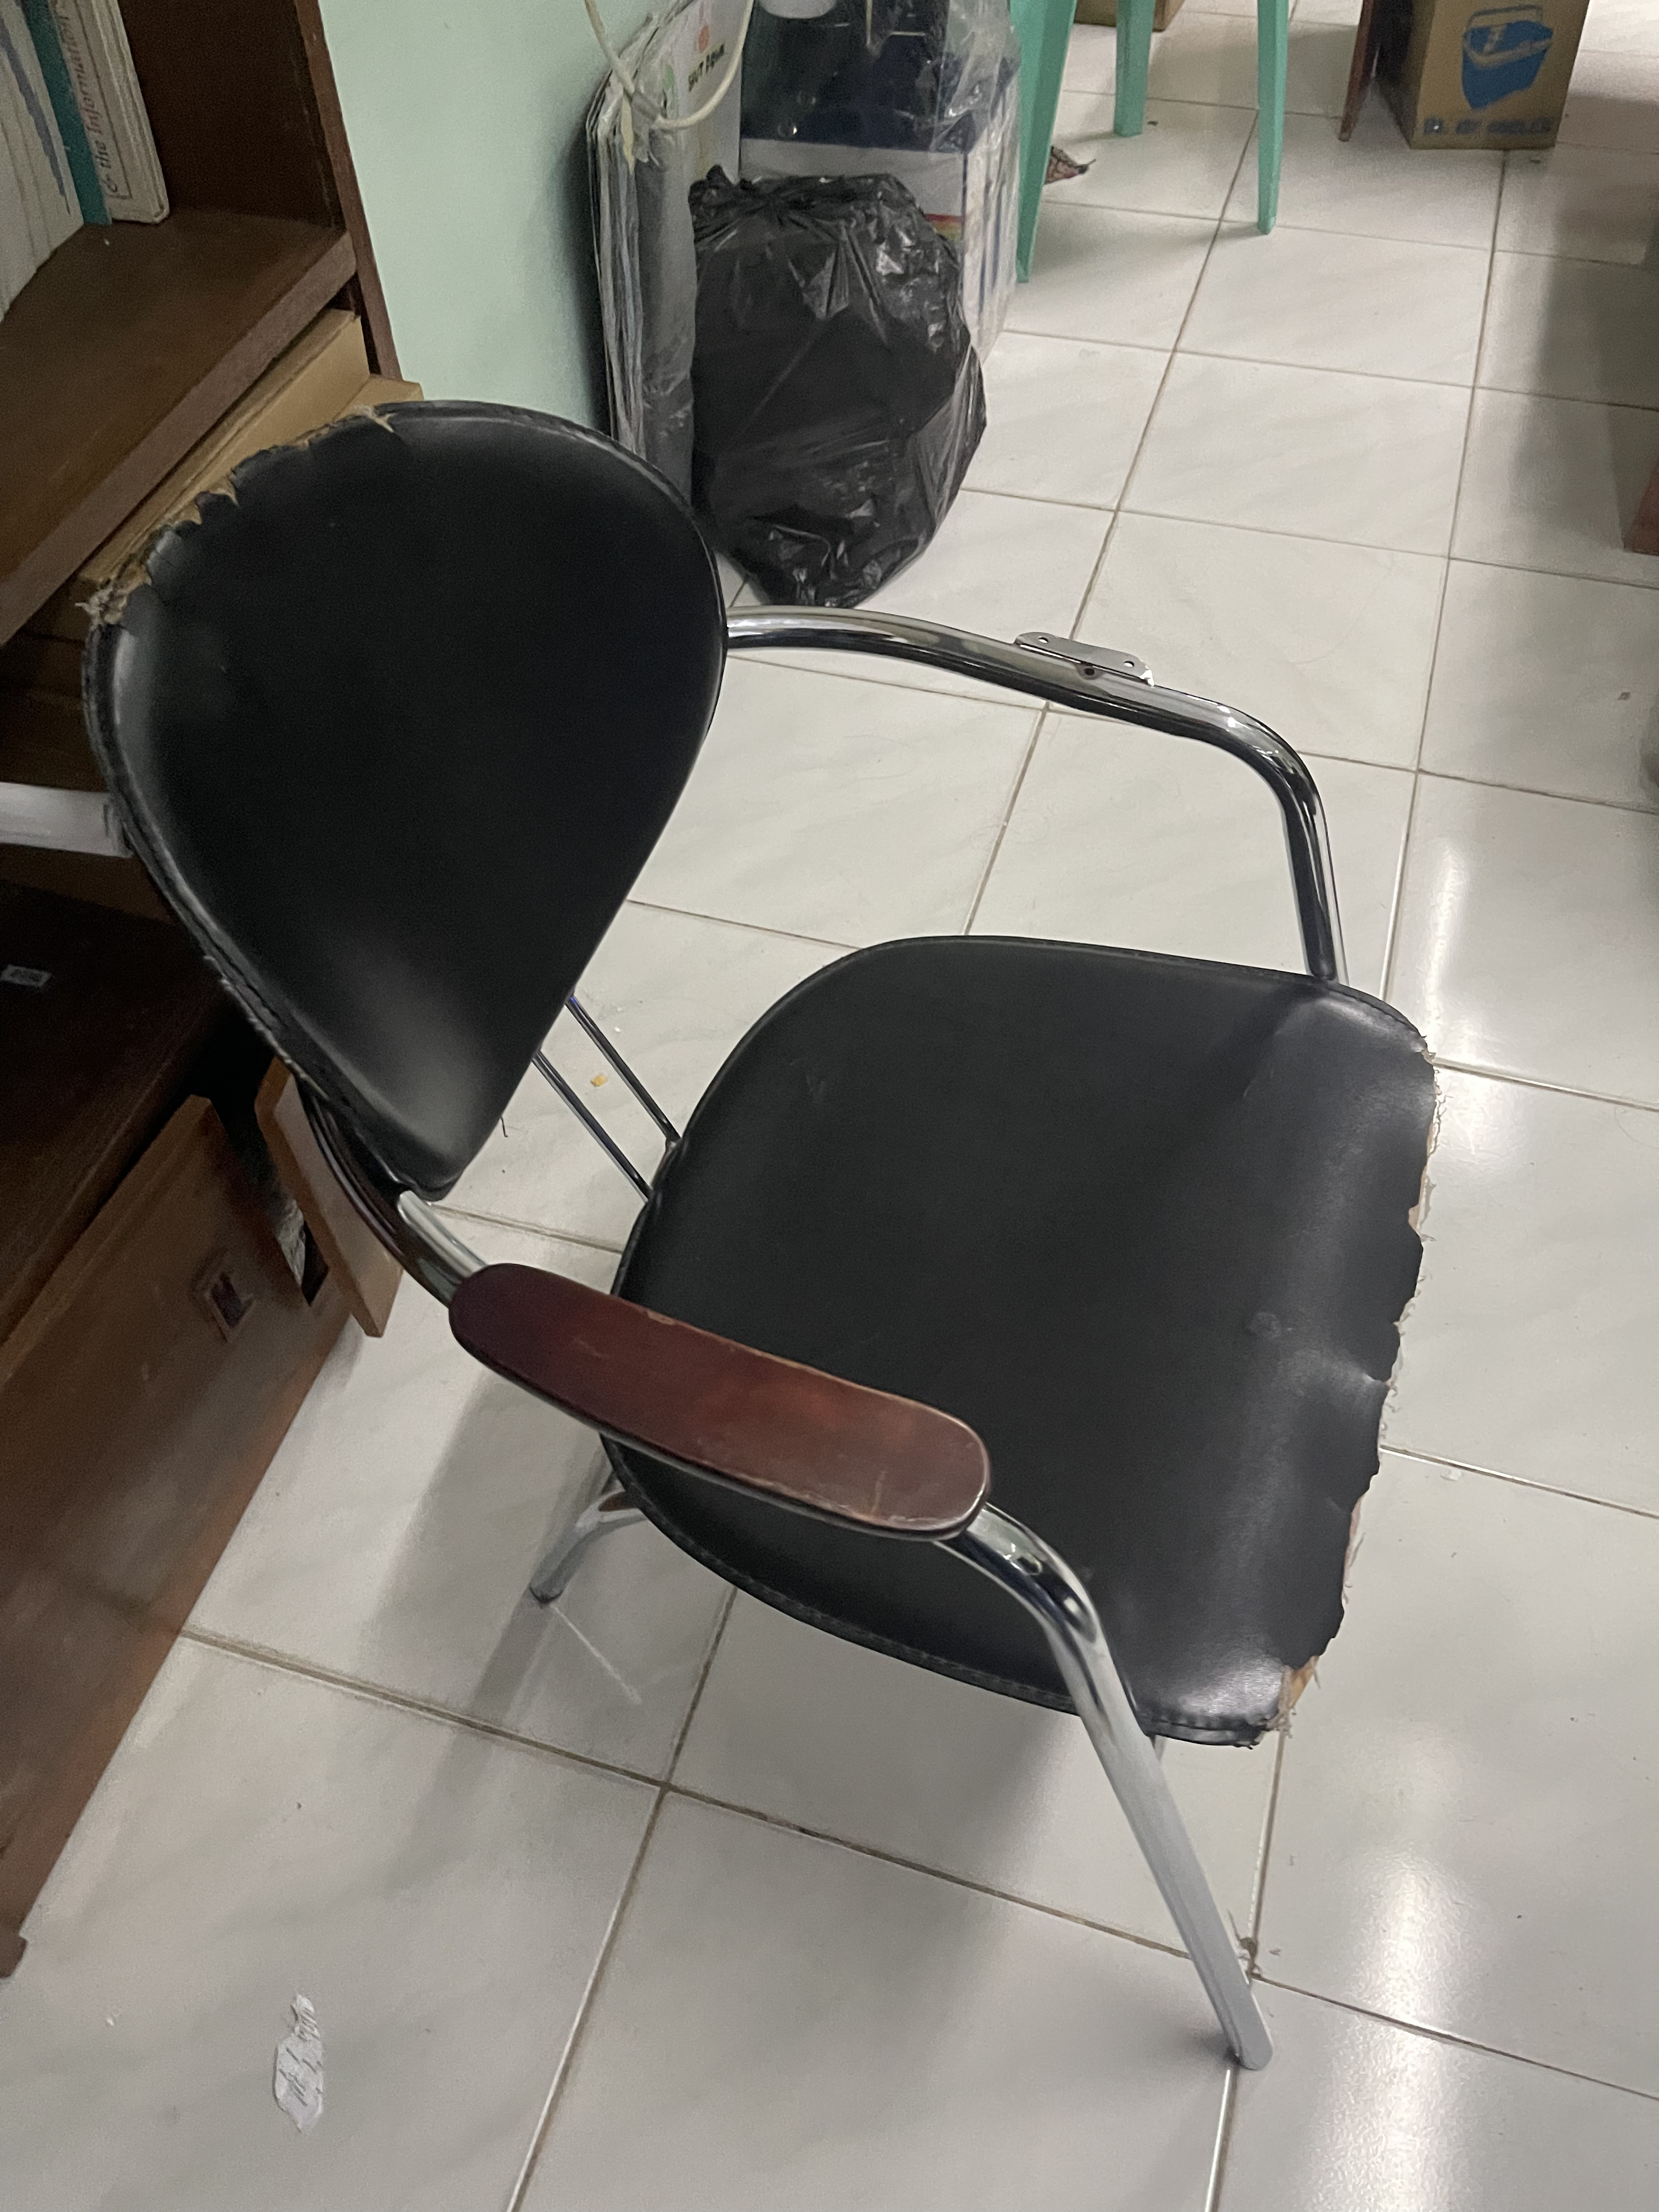chair1: (78, 397, 1439, 2069)
